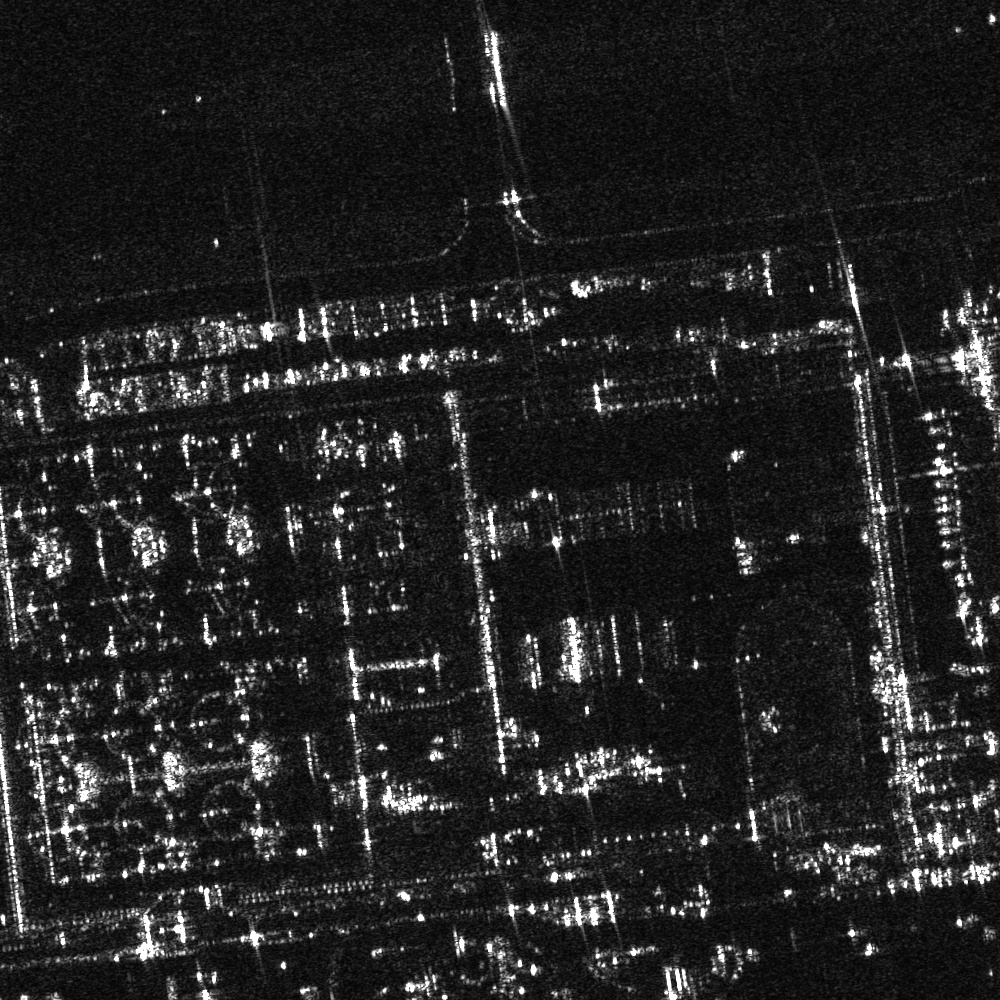Boeing787: (459, 933, 536, 999)
